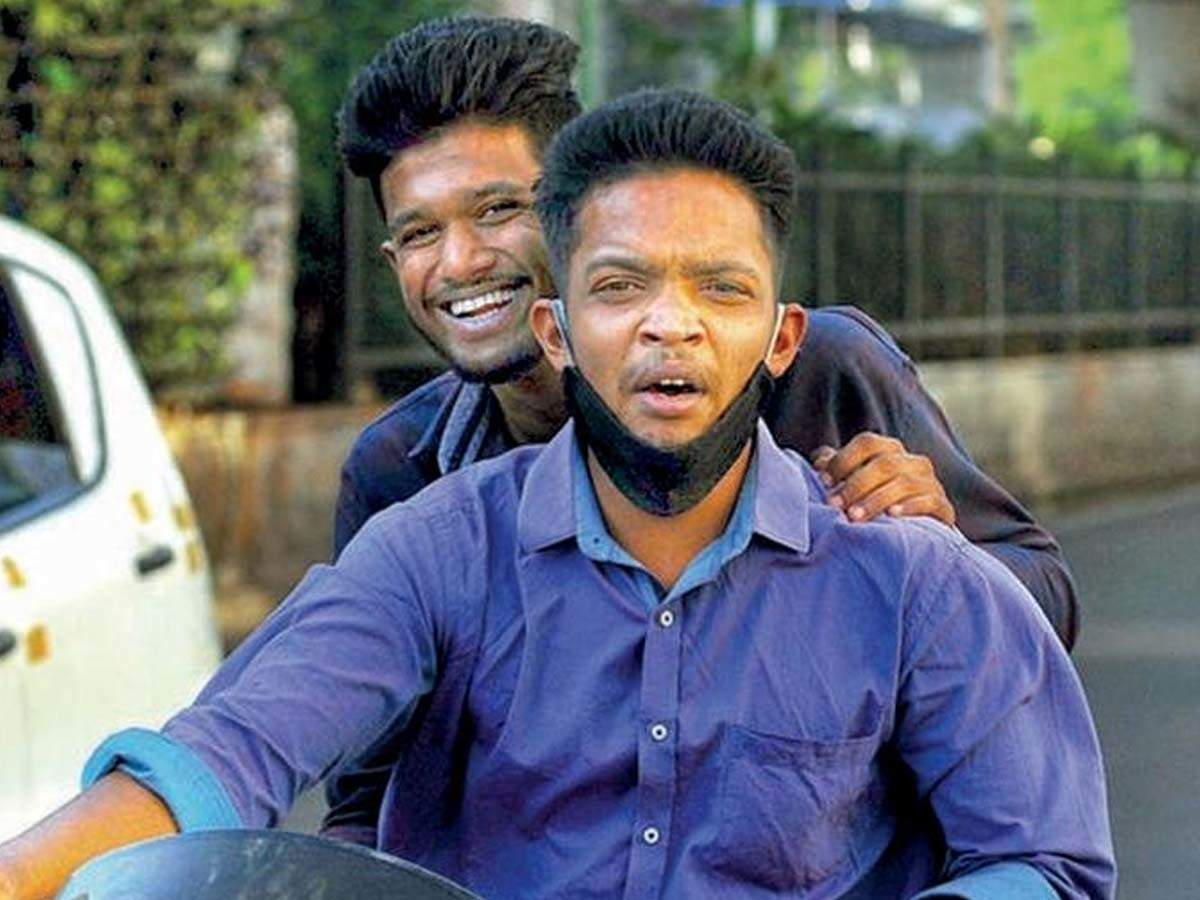with_incorrect_mask: (582, 232, 752, 474)
without_mask: (394, 171, 537, 359)
